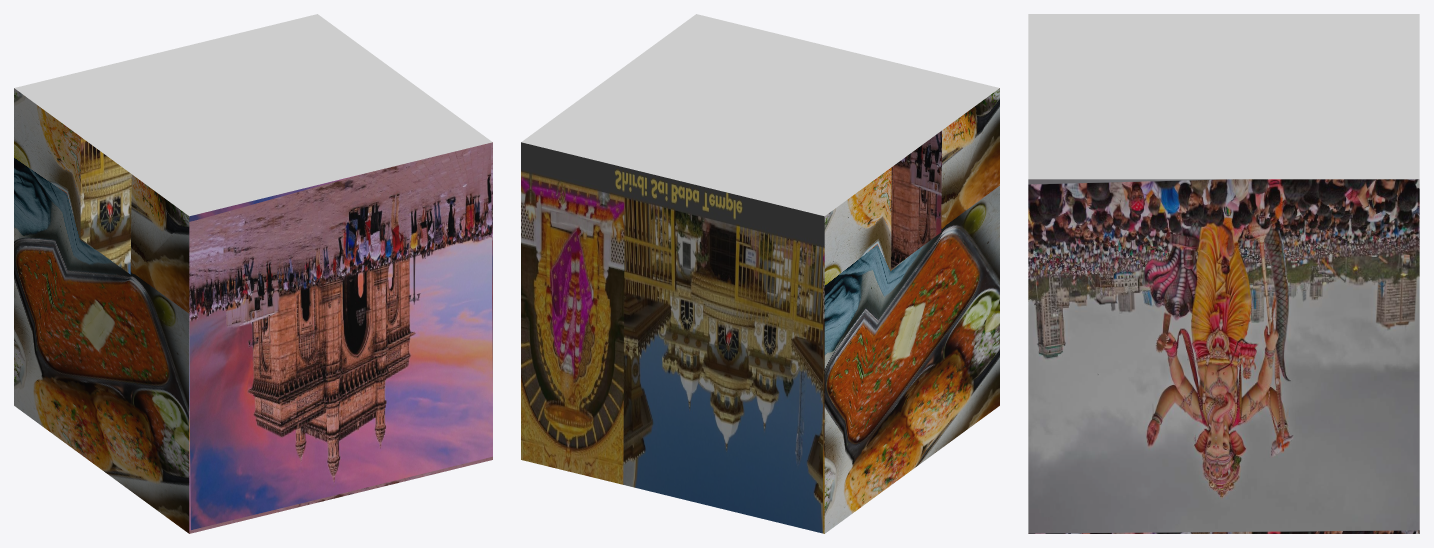
The model's file is Maharashtra.glb.
3 views of the same model, side by side, from view 1: azimuth 30°, elevation 25°; view 2: azimuth 150°, elevation 25°; view 3: azimuth 270°, elevation 25° (orthographic). The views are drawn at different scales.
Visible parts, largest first — view 1: Cube.003, Cube, Cube.005, Cube.002; view 2: Cube.002, Cube, Cube.005, Cube.003; view 3: Cube.004, Cube.
Boxes of the visible parts, <box> form: Cube.003: <box>189,142,492,533</box>; Cube: <box>14,14,492,216</box>; Cube.005: <box>14,88,189,533</box>; Cube.002: <box>80,137,131,274</box>; Cube.002: <box>521,142,824,533</box>; Cube: <box>521,14,999,216</box>; Cube.005: <box>824,88,999,533</box>; Cube.003: <box>891,130,941,269</box>; Cube.004: <box>1028,179,1419,533</box>; Cube: <box>1028,14,1419,179</box>.
Bounding box in the file's own units: 94.76 × 94.76 × 94.76.
5 materials, 4 textured.
